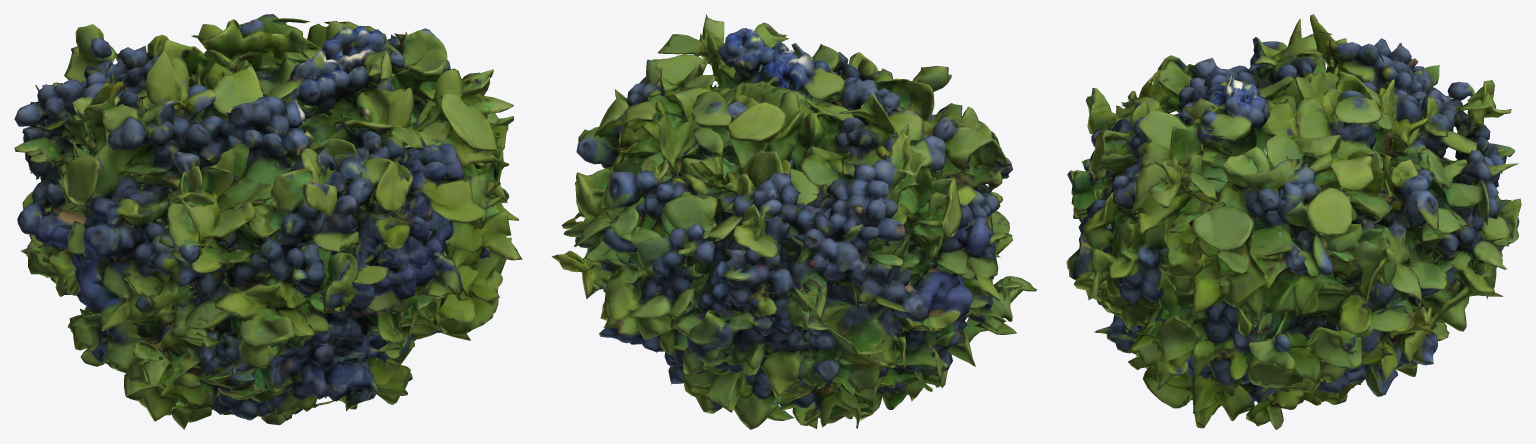
The model's file is blueberry_bush_0823181219_texture.fbx.
The picture shows the model from 3 angles, left to right: view 1: azimuth 30°, elevation 25°; view 2: azimuth 150°, elevation 25°; view 3: azimuth 270°, elevation 25°; orthographic projection. The views are drawn at different scales.
Parts seen in each view (by area): view 1: Mesh1.0; view 2: Mesh1.0; view 3: Mesh1.0.
Part boxes in pixels (x1=…): Mesh1.0: x1=14, y1=14, x2=522, y2=429; Mesh1.0: x1=551, y1=14, x2=1037, y2=429; Mesh1.0: x1=1066, y1=14, x2=1521, y2=429.
Bounding box in the file's own units: 1207 × 1000 × 1196.
1 material, 1 textured.
